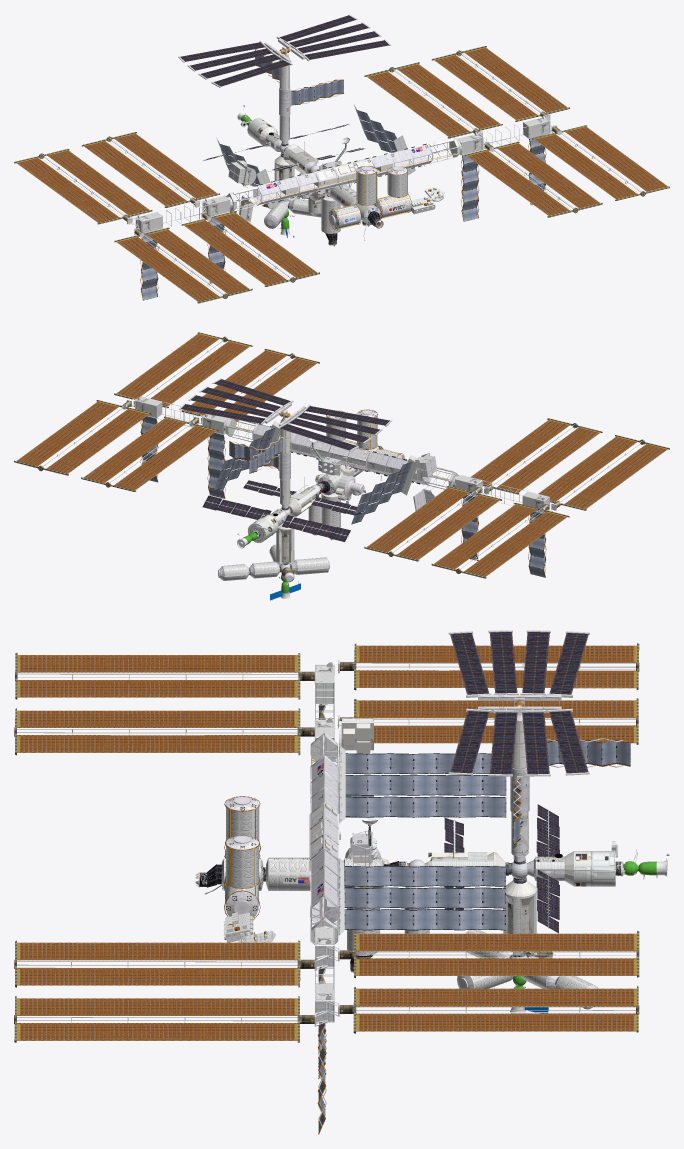
The model's file is satellite.gltf.
The picture shows the model from 3 angles, top to bottom: view 1: azimuth 30°, elevation 25°; view 2: azimuth 150°, elevation 25°; view 3: azimuth 270°, elevation 25°; orthographic projection. The views are drawn at different scales.
Parts seen in each view (by area): view 1: iss_issbso, iss_issbs0, iss_issmod, iss_isssol, iss_issrad, iss_isspan, iss_issb3_, iss_isscov, iss_metalc, iss_issco0, iss_issp2_, iss_issdis (+1 smaller); view 2: iss_issbso, iss_issbs0, iss_isssol, iss_issmod, iss_issrad, iss_isspan, iss_issb3_, iss_isscov, iss_metalc, iss_issco0, iss_issp2_, iss_issdis (+3 smaller); view 3: iss_issbso, iss_issbs0, iss_issrad, iss_isssol, iss_issmod, iss_isscov, iss_isspan, iss_issb3_, iss_issp2_, iss_metalc, iss_issco0, iss_isszmo (+3 smaller).
Boxes of the visible parts, x1,y1,x2,y2 form: iss_issbso: [16, 47, 668, 301]; iss_issbs0: [44, 67, 640, 282]; iss_issmod: [41, 39, 641, 296]; iss_isssol: [180, 15, 389, 170]; iss_issrad: [141, 49, 545, 300]; iss_isspan: [204, 125, 411, 233]; iss_issb3_: [136, 47, 545, 230]; iss_isscov: [128, 14, 555, 233]; iss_metalc: [14, 46, 669, 303]; iss_issco0: [136, 115, 549, 232]; iss_issp2_: [239, 53, 444, 213]; iss_issdis: [140, 47, 545, 300]; iss_issbso: [16, 333, 667, 576]; iss_issbs0: [43, 353, 640, 557]; iss_isssol: [181, 379, 389, 541]; iss_issmod: [42, 338, 643, 582]; iss_issrad: [141, 416, 545, 577]; iss_isspan: [204, 412, 400, 580]; iss_issb3_: [137, 397, 549, 572]; iss_isscov: [128, 378, 555, 581]; iss_metalc: [14, 332, 669, 579]; iss_issco0: [135, 396, 548, 512]; iss_issp2_: [253, 417, 422, 535]; iss_issdis: [140, 409, 545, 577]; iss_issbso: [16, 645, 636, 1040]; iss_issbs0: [110, 645, 543, 1040]; iss_issrad: [318, 704, 630, 1132]; iss_isssol: [444, 632, 588, 933]; iss_issmod: [17, 660, 636, 1126]; iss_isscov: [225, 630, 615, 1026]; iss_isspan: [224, 804, 594, 1008]; iss_issb3_: [311, 662, 564, 1021]; iss_issp2_: [223, 712, 579, 957]; iss_metalc: [14, 643, 639, 1042]; iss_issco0: [315, 665, 528, 1000]; iss_isszmo: [574, 851, 615, 886].
Bounding box in the file's own units: 14.39 × 5.42 × 10.22.
Materials: 46 (39 with a texture image).
